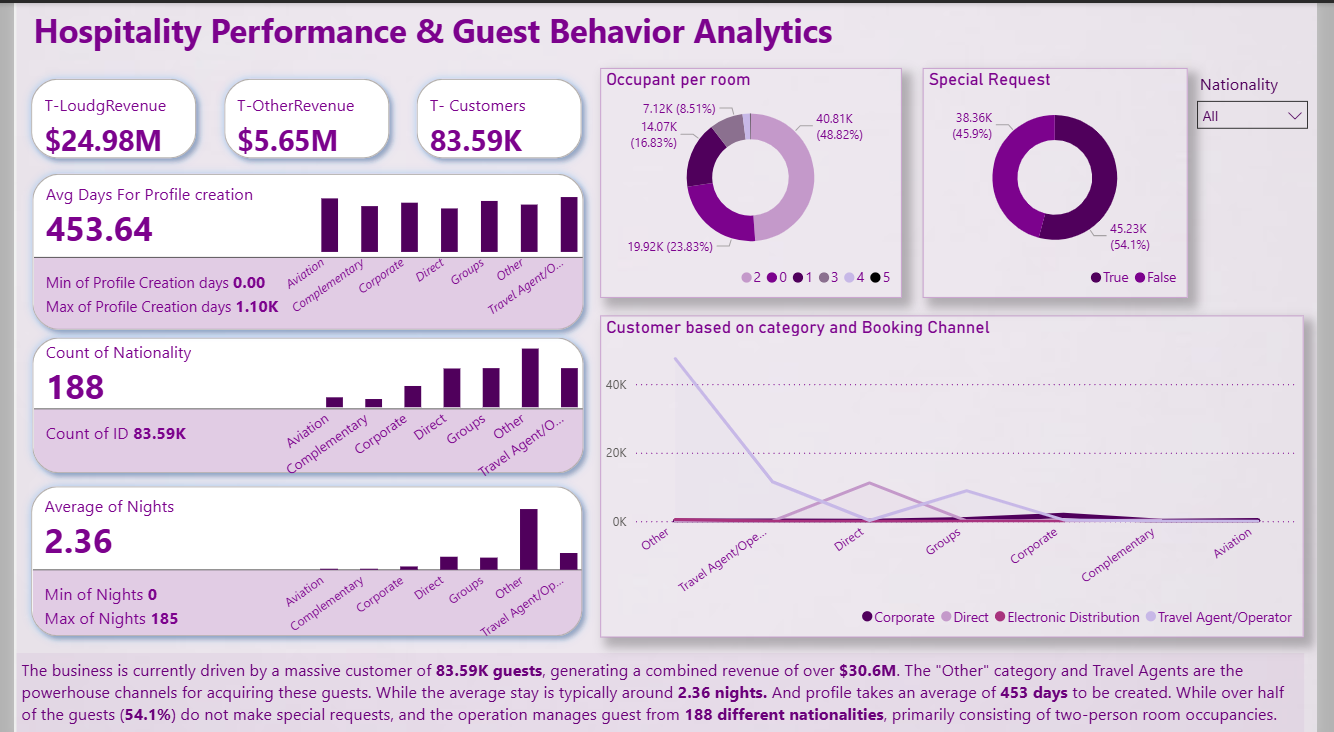

Layout of this report page (visuals, bound fields, positions):
{"tool":"powerbi","page":{"name":"Page 1","canvas":[1280,720],"ordinal":0},"visuals":[{"type":"textbox","box":[2.5,0,1277.3,720.2],"z":1000},{"type":"cardVisual","fields":{"Data":["Column.T-LoudgRevenue","Column.T-OtherRevenue","CountNonNull(Sheet1.ID)"]},"box":[0,57.1,576,112],"z":1000,"group":"g1"},{"type":"cardVisual","fields":{"Data":["Count(Sheet1.Nationality)"]},"box":[1.4,311.4,575.7,167.1],"z":1500,"group":"g1"},{"type":"clusteredColumnChart","fields":{"Category":["Sheet1.Customer category"],"Y":["Count(Sheet1.Nationality)"]},"box":[255.7,318.5,320,160],"z":2000,"group":"g1"},{"type":"textbox","box":[2,638,1264,82],"z":2000},{"type":"slicer","fields":{"Values":["Sheet1.Nationality"]},"box":[1150.9,62.6,128.8,225.8],"z":3000},{"type":"donutChart","title":"Special Request","fields":{"Category":["Sheet1.HasAnySpecialRequest"],"Y":["CountNonNull(Sheet1.ID)"]},"box":[891.4,62.8,260,225.7],"z":3000,"group":"g1"},{"type":"group","id":"g1","title":"Group 1","box":[0,57.1,1265.7,581.4],"z":4000},{"type":"cardVisual","fields":{"Data":["Avg(Sheet1.Profile Creation days)"]},"box":[1.4,150,575.7,187.1],"z":7000,"group":"g1"},{"type":"cardVisual","fields":{"Data":["Avg(Sheet1.Nights)"]},"box":[0,457.1,575.7,181.4],"z":8000,"group":"g1"},{"type":"donutChart","title":"Occupant per room","fields":{"Category":["Sheet1.Person in a room"],"Y":["CountNonNull(Sheet1.ID)"]},"box":[575.7,62.8,295.7,225.7],"z":9000,"group":"g1"},{"type":"lineChart","title":"Customer based on category and Booking Channel","fields":{"Y":["CountNonNull(Sheet1.ID)"],"Series":["Sheet1.Booking Channel"],"Category":["Sheet1.Customer category"]},"box":[575.7,305.7,690,315.7],"z":10000,"group":"g1"},{"type":"columnChart","fields":{"Category":["Sheet1.Customer category"],"Y":["Sum(Sheet1.RoomNights)"]},"box":[255.7,478.5,320,160],"z":11000,"group":"g1"},{"type":"clusteredColumnChart","fields":{"Category":["Sheet1.Customer category"],"Y":["Avg(Sheet1.Profile Creation days)"]},"box":[255.7,175.7,320,142.9],"z":12000,"group":"g1"}]}

Visuals, with their boxes in screenshot pixels (x1, y1, x2, y2), scaled from the page's 1280x720 canvas onto the 1334x732 screenshot:
textbox: 3/0/1333/731
cardVisual - Column.T-LoudgRevenue x Column.T-OtherRevenue: 0/58/600/172
cardVisual - Count(Sheet1.Nationality): 1/317/601/486
clusteredColumnChart - Sheet1.Customer category x Count(Sheet1.Nationality): 266/324/600/486
textbox: 2/649/1319/731
slicer - Sheet1.Nationality: 1199/64/1333/293
"Special Request" donutChart: 929/64/1200/293
"Group 1" group: 0/58/1319/649
cardVisual - Avg(Sheet1.Profile Creation days): 1/152/601/343
cardVisual - Avg(Sheet1.Nights): 0/465/600/649
"Occupant per room" donutChart: 600/64/908/293
"Customer based on category and Booking Channel" lineChart: 600/311/1319/632
columnChart - Sheet1.Customer category x Sum(Sheet1.RoomNights): 266/486/600/649
clusteredColumnChart - Sheet1.Customer category x Avg(Sheet1.Profile Creation days): 266/179/600/324
